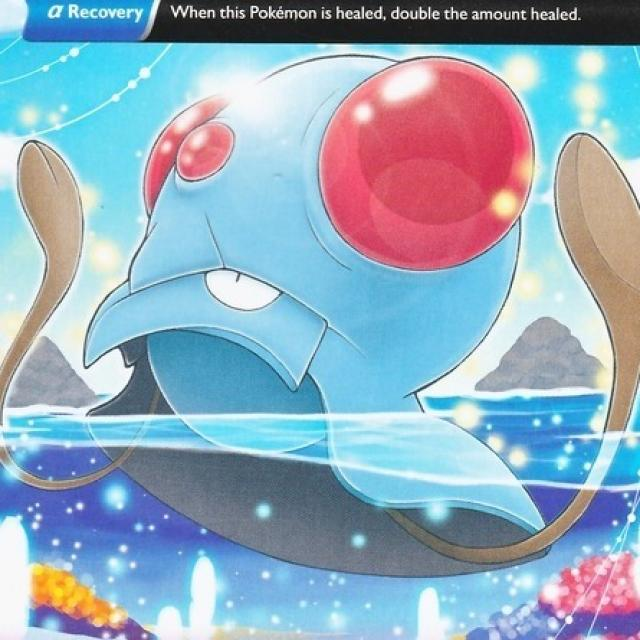Tentacool: (105, 50, 533, 548)
